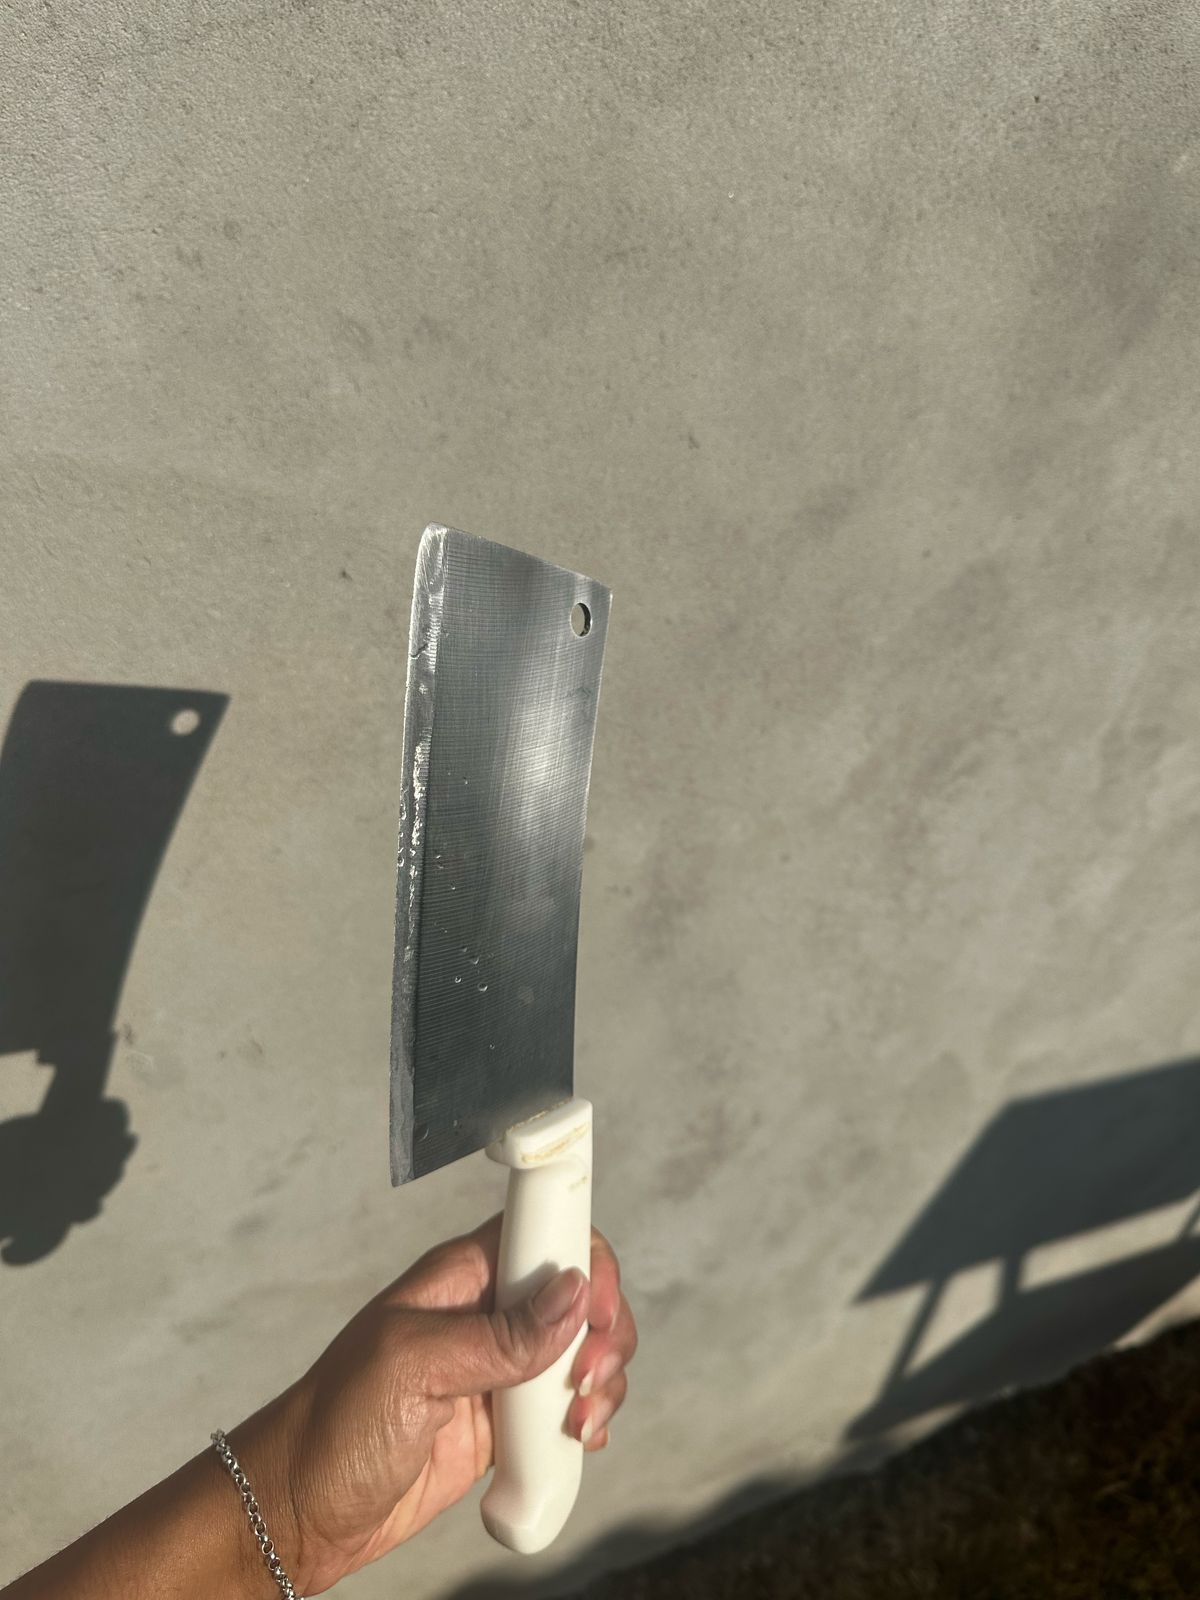faca: (350, 498, 606, 1221)
